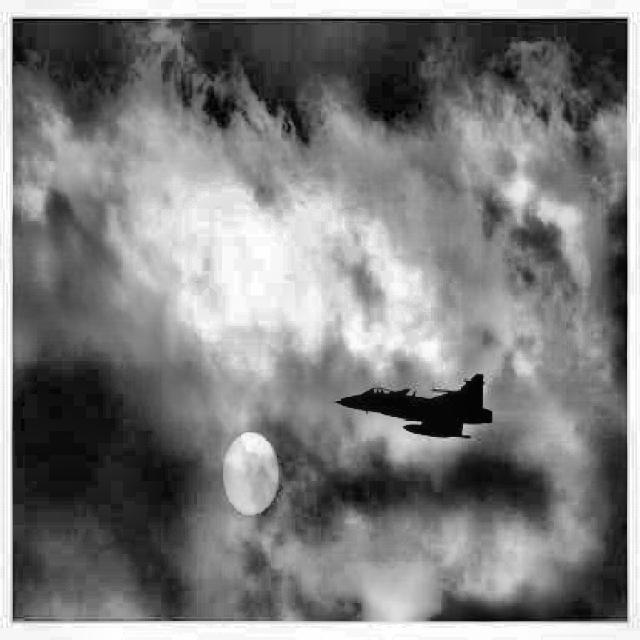JAS39: (325, 374, 493, 438)
